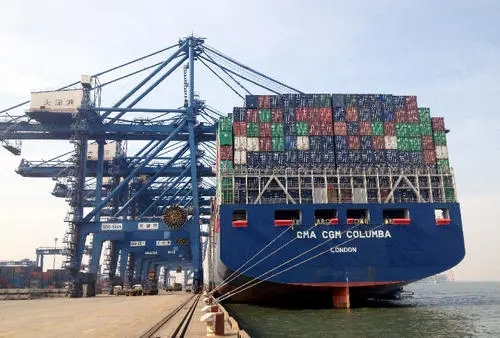Cargoship: (207, 87, 467, 304)
